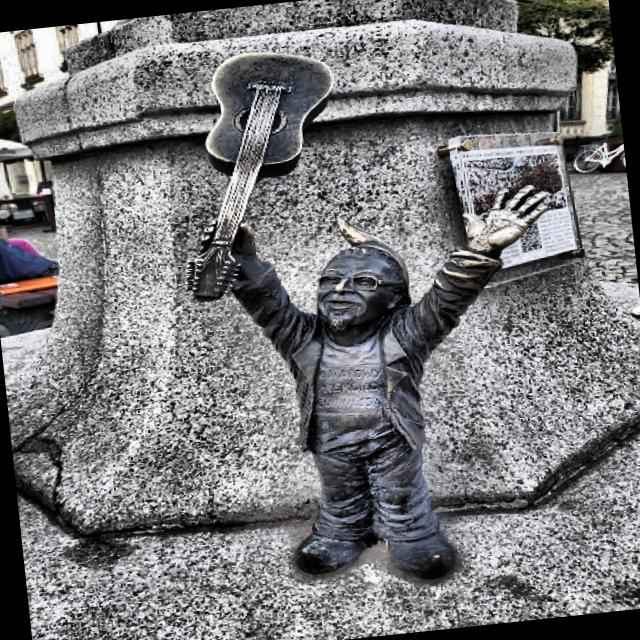Leszko_z_Wroclawia: (188, 53, 548, 581)
